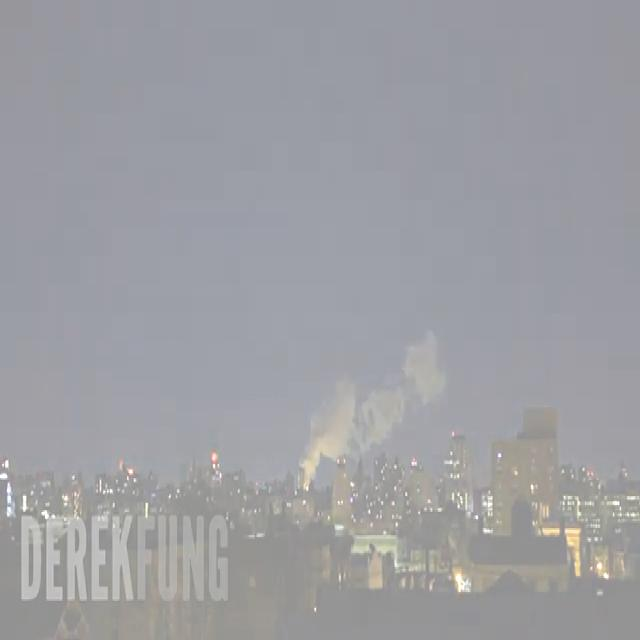smoke: (298, 341, 440, 489)
